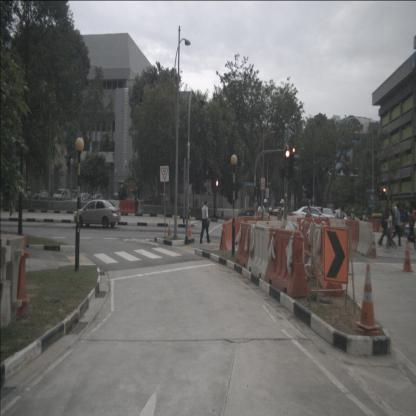barrier: (264, 227, 308, 298), (0, 233, 31, 316), (0, 234, 24, 324), (315, 225, 344, 296), (247, 224, 271, 281), (297, 218, 329, 258), (0, 237, 12, 331), (301, 222, 322, 271), (270, 216, 297, 250), (242, 216, 270, 244), (235, 222, 251, 269), (329, 218, 346, 248), (345, 219, 359, 252), (219, 221, 232, 250), (230, 217, 244, 241), (119, 200, 135, 213), (368, 219, 379, 233), (108, 200, 120, 212), (138, 200, 144, 212)
cone: (354, 264, 380, 336), (356, 220, 373, 258), (400, 241, 414, 272), (370, 234, 378, 258), (188, 220, 193, 237), (167, 220, 172, 236), (379, 224, 382, 233)
